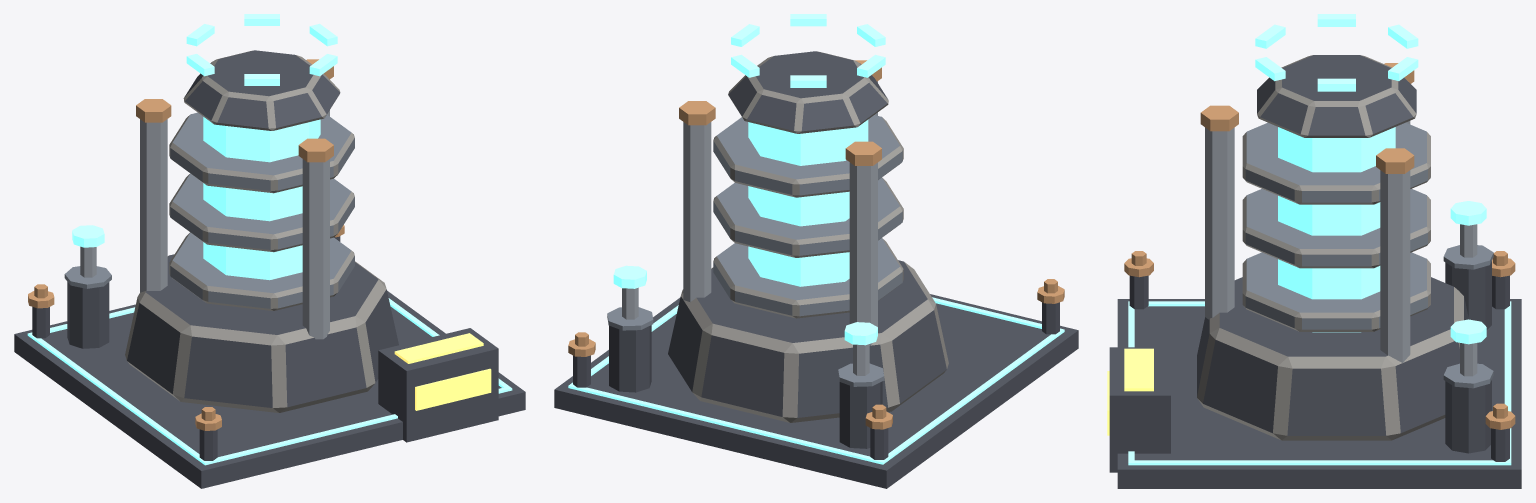
The model's file is gerador_sem_textura.glb.
The picture shows the model from 3 angles, left to right: view 1: azimuth 30°, elevation 25°; view 2: azimuth 150°, elevation 25°; view 3: azimuth 270°, elevation 25°; orthographic projection. The views are drawn at different scales.
Parts seen in each view (by area): view 1: gerador_corpo, gerador_antena, gerador_pistao0; view 2: gerador_corpo, gerador_antena, gerador_pistao0, gerador_pistao1; view 3: gerador_corpo, gerador_antena, gerador_pistao1, gerador_pistao0.
Part boxes in pixels (x1,y1,x2,y2): gerador_corpo: [14, 50, 525, 488]; gerador_antena: [186, 14, 337, 85]; gerador_pistao0: [72, 225, 104, 277]; gerador_corpo: [554, 51, 1078, 488]; gerador_antena: [731, 14, 885, 87]; gerador_pistao0: [844, 322, 877, 375]; gerador_pistao1: [613, 265, 646, 319]; gerador_corpo: [1107, 55, 1521, 488]; gerador_antena: [1255, 14, 1418, 91]; gerador_pistao1: [1450, 319, 1486, 376]; gerador_pistao0: [1450, 201, 1486, 257].
Bounding box in the file's own units: 1.9 × 1.84 × 1.95.
